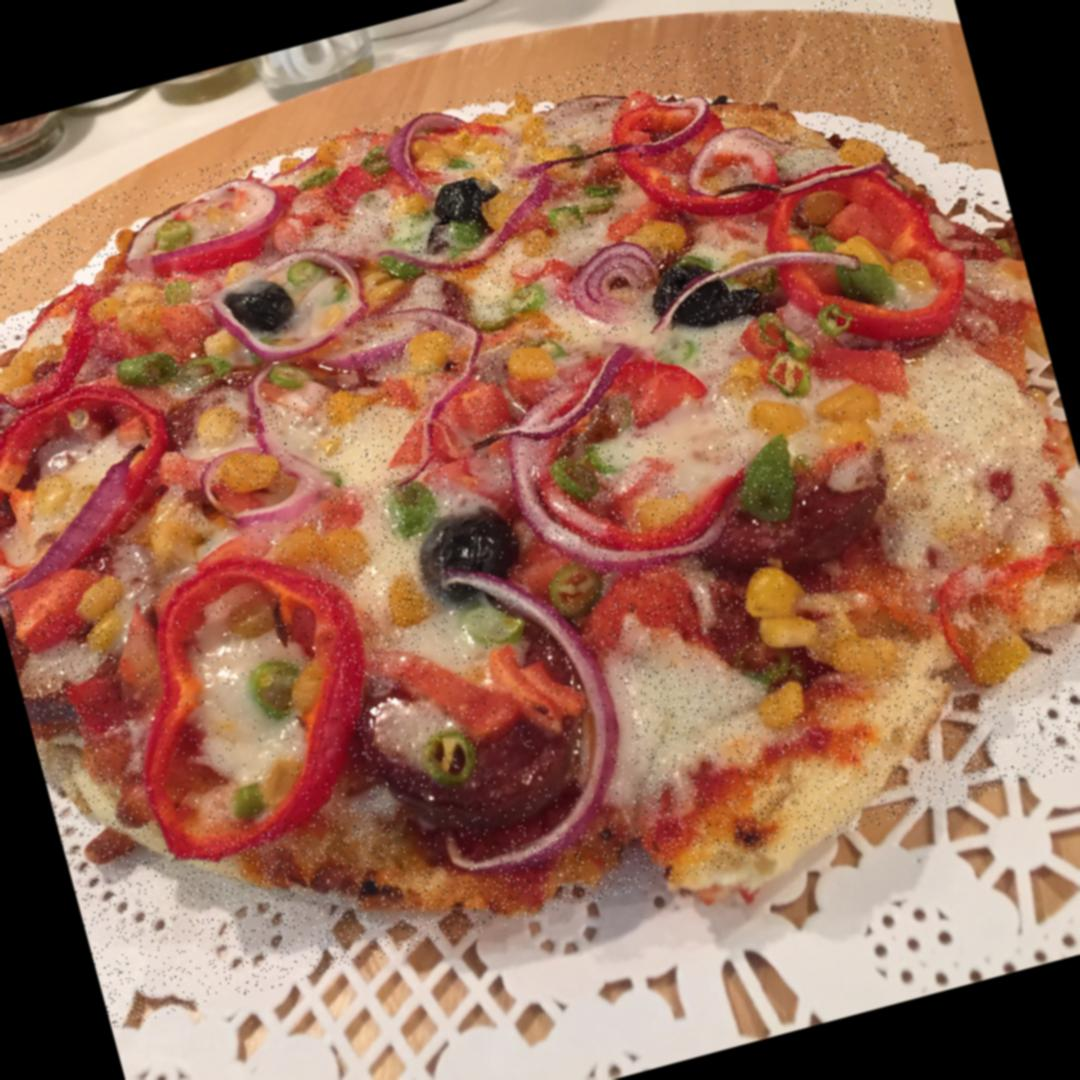Corn: (744, 367, 886, 467), (744, 568, 818, 661), (101, 266, 175, 349), (206, 442, 296, 500), (742, 676, 814, 730), (396, 325, 458, 384), (723, 350, 773, 422), (384, 570, 438, 624), (312, 518, 363, 574), (504, 341, 560, 391), (0, 336, 41, 396), (82, 578, 128, 620), (510, 222, 553, 258)
Olives: (406, 495, 522, 606), (646, 246, 730, 330), (226, 268, 295, 334), (426, 177, 490, 241)
Onion: (410, 536, 654, 854), (476, 360, 701, 612), (206, 237, 430, 413), (337, 274, 508, 448), (0, 464, 169, 590), (188, 421, 334, 542), (562, 232, 660, 328), (381, 110, 460, 173)
Pepperoni: (365, 647, 597, 877), (700, 470, 895, 604)
Peppers: (95, 522, 372, 854), (422, 314, 744, 589), (748, 143, 989, 371), (0, 376, 195, 600), (607, 67, 787, 248), (112, 172, 298, 282), (0, 290, 132, 399)
Pizza: (0, 0, 1080, 1030)
